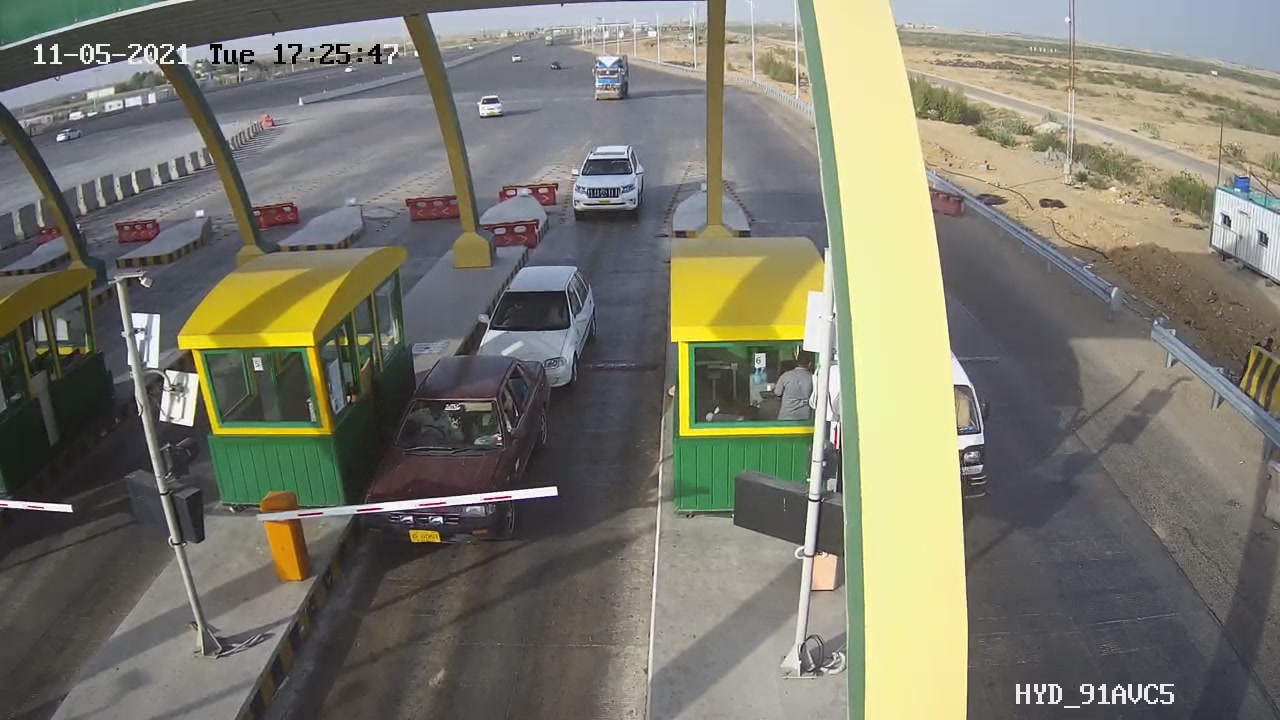F1: (348, 346, 563, 568), (461, 252, 614, 407)
